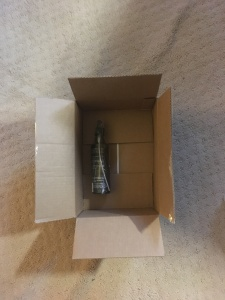innerbox: (74, 100, 155, 215)
outerbox: (34, 78, 174, 258)
product: (90, 123, 110, 192)
